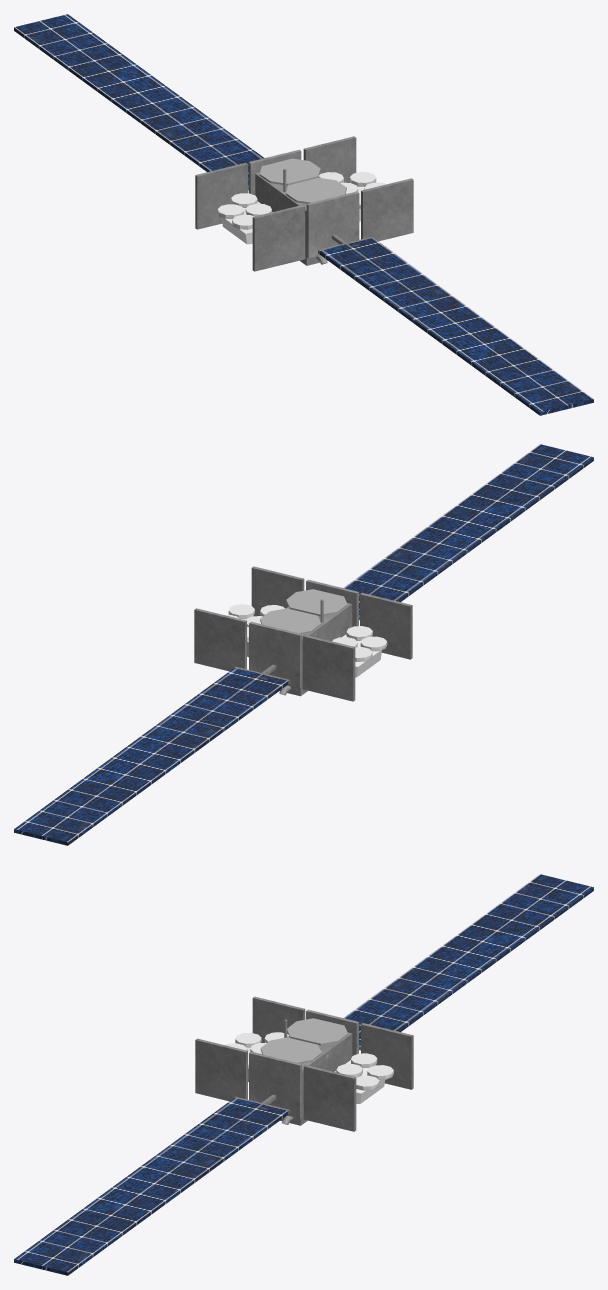
Rendered from WGS_Satellite.glb.
The picture shows the model from 3 angles, top to bottom: view 1: azimuth 30°, elevation 25°; view 2: azimuth 150°, elevation 25°; view 3: azimuth 330°, elevation 25°; orthographic projection.
Size of the model in its own units: 4.77 by 2.2 by 27.34.
1 material, 1 textured.
